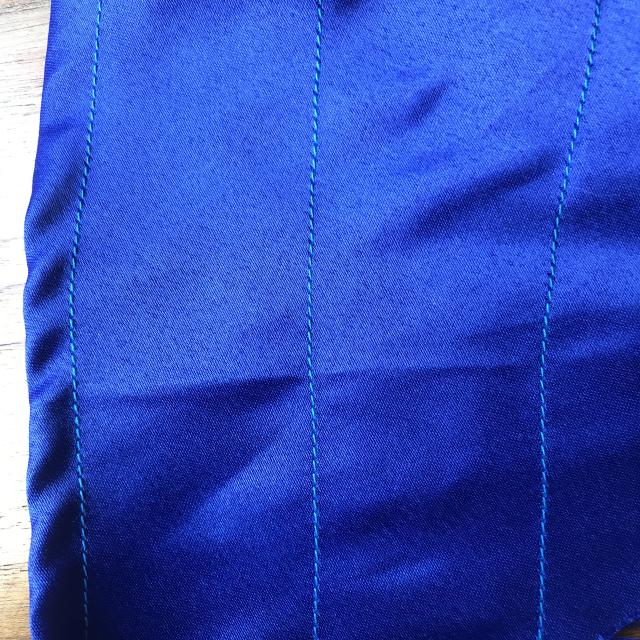good: (282, 274, 332, 514), (291, 34, 352, 220)
